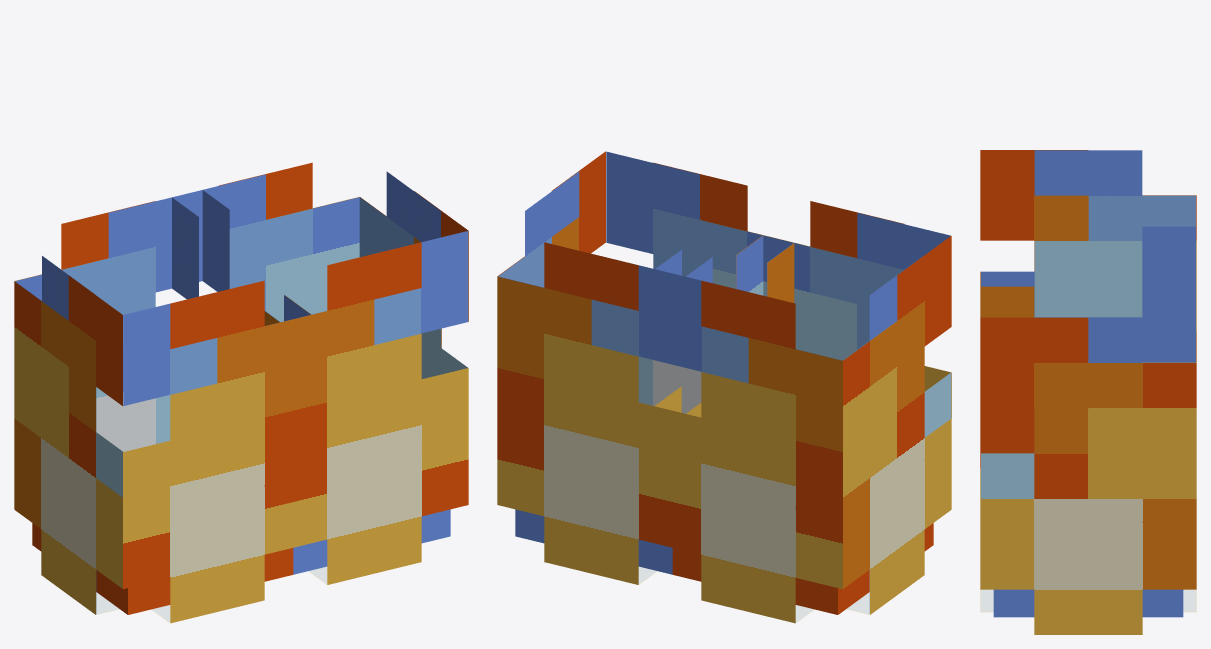
Rendered from sl_legacy_mixed_fire_feet.glb.
The picture shows the model from 3 angles, left to right: view 1: azimuth 30°, elevation 25°; view 2: azimuth 150°, elevation 25°; view 3: azimuth 270°, elevation 25°; orthographic projection.
Parts seen in each view (by area): view 1: bb_legacy_mixed_fire_feet; view 2: bb_legacy_mixed_fire_feet; view 3: bb_legacy_mixed_fire_feet.
Part boxes in pixels (x1=…): bb_legacy_mixed_fire_feet: x1=14, y1=162, x2=468, y2=623; bb_legacy_mixed_fire_feet: x1=497, y1=151, x2=951, y2=623; bb_legacy_mixed_fire_feet: x1=980, y1=150, x2=1196, y2=634.
Bounding box in the file's own units: 0.5225 × 0.66 × 0.285.
1 material, 1 textured.
